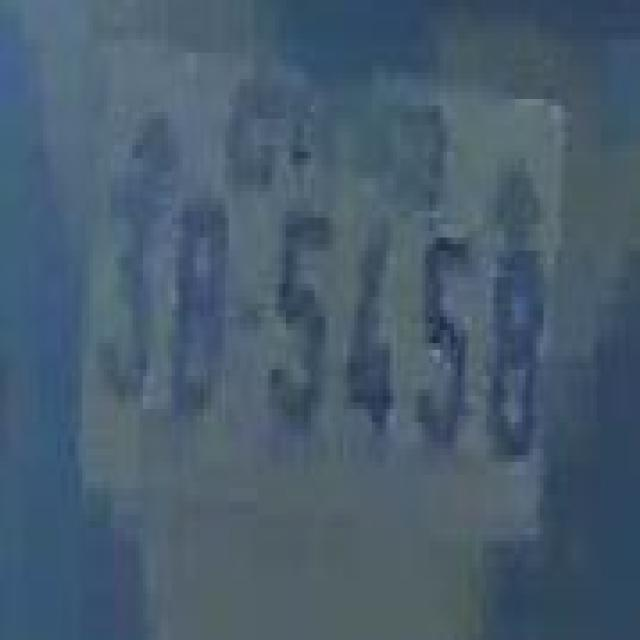Preah_Sihanouk: (218, 7, 444, 228)
